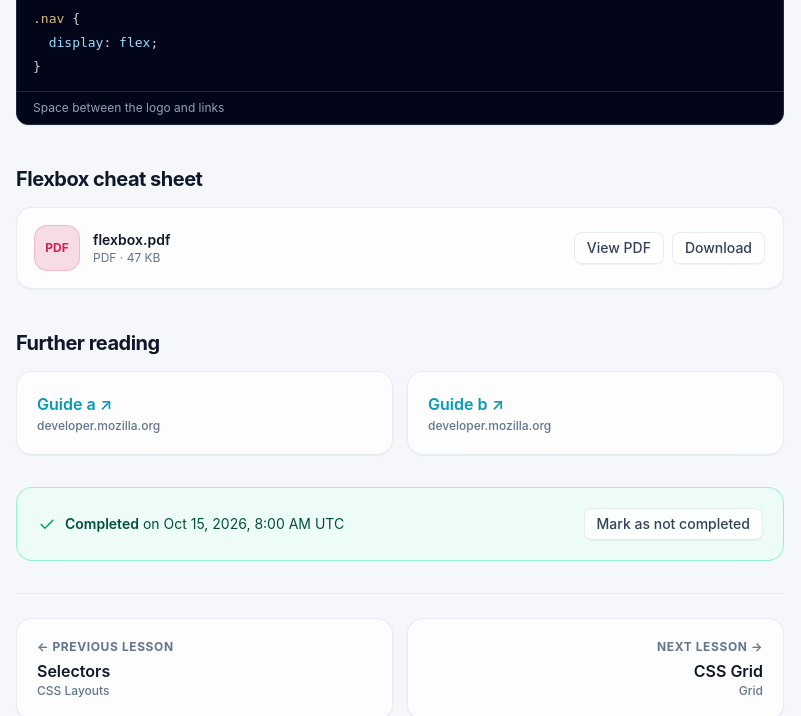
Scenario: LessonReaderPage › lets the student undo a completion
The width and height of the screenshot is (801, 716).
(page scrolled)
What coordinates should you click on to do the following:
click the button "Mark as not completed"
I would click on:
 (673, 524)
Its box is [584,508,763,540].
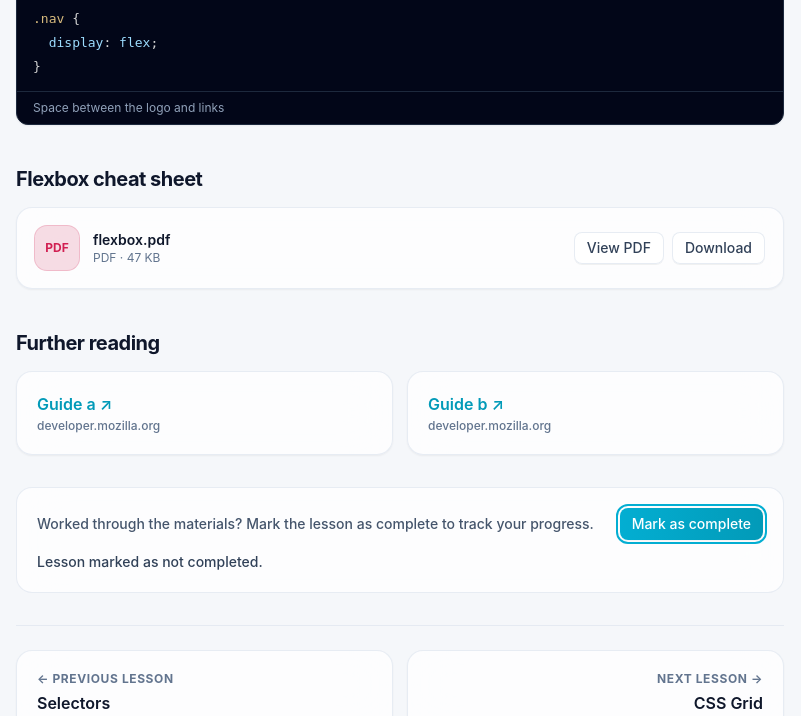
Check: the button "Mark as complete" is shown, box [620,508,763,540]
